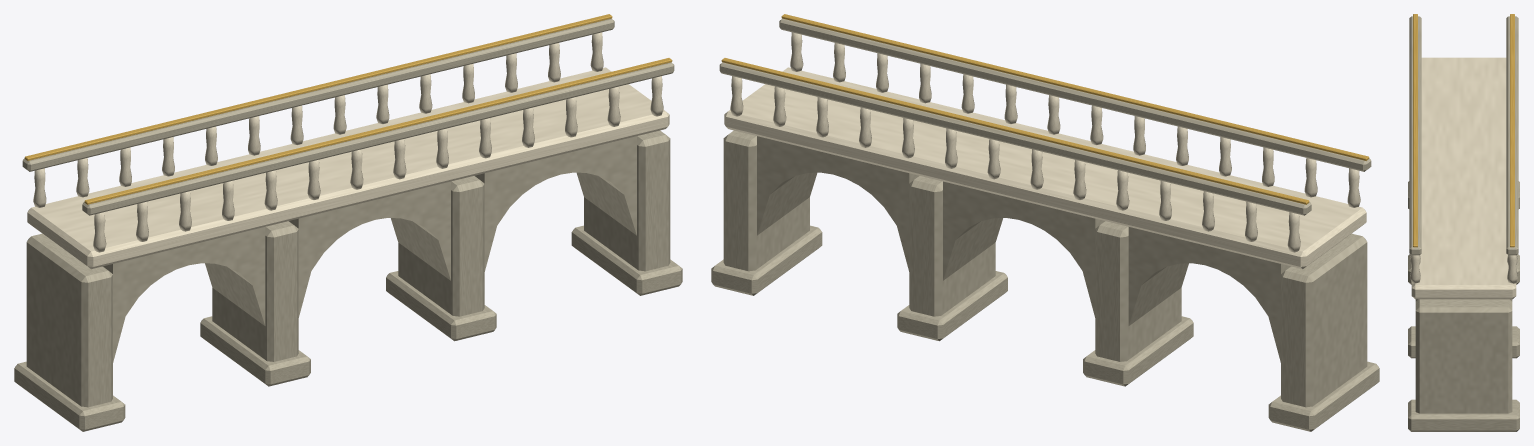
The model's file is royal-bridge.glb.
3 renders of one model, left to right at view 1: azimuth 30°, elevation 25°; view 2: azimuth 150°, elevation 25°; view 3: azimuth 270°, elevation 25°, orthographic. The views are drawn at different scales.
Visible parts, largest first — view 1: royal-bridge; view 2: royal-bridge; view 3: royal-bridge.
Boxes of the visible parts, left/top/right/bottom form: royal-bridge: left=14, top=14, right=682, bottom=431; royal-bridge: left=711, top=14, right=1379, bottom=431; royal-bridge: left=1408, top=14, right=1519, bottom=431.
Bounding box in the file's own units: 6.06 × 2.18 × 1.2.
Materials: 3 (3 with a texture image).
